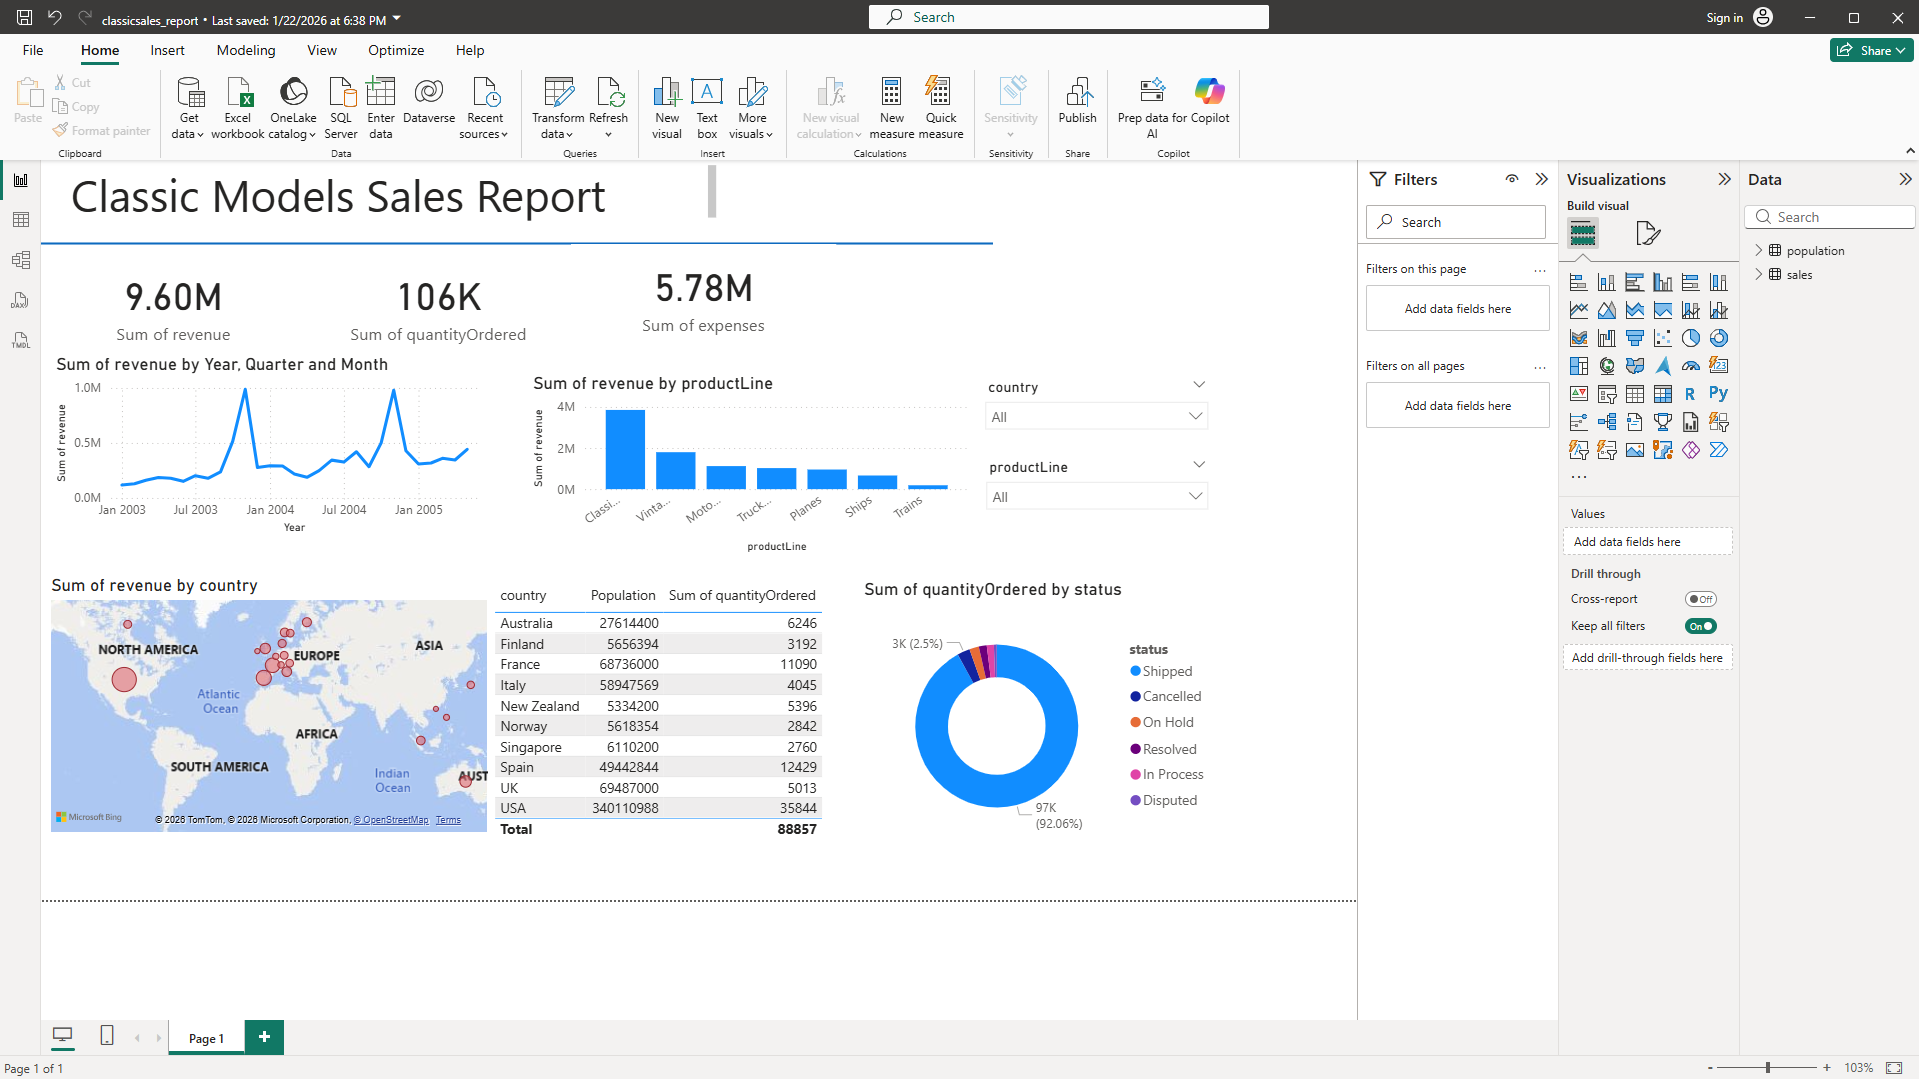

Layout of this report page (visuals, bound fields, positions):
{"tool":"powerbi","page":{"name":"Page 1","canvas":[1280,720],"ordinal":0},"visuals":[{"type":"textbox","box":[9.7,0,651.7,64.2],"z":0},{"type":"shape","box":[0,72,926,18.5],"z":1000},{"type":"card","fields":{"Values":["Sum(sales.revenue)"]},"box":[0,90.5,257.8,98.2],"z":2000},{"type":"card","fields":{"Values":["Sum(sales.quantityOrdered)"]},"box":[257.8,90.5,257.8,98.2],"z":3000},{"type":"card","fields":{"Values":["Sum(sales.expenses)"]},"box":[515.5,81.7,257.8,98.2],"z":4000},{"type":"lineChart","fields":{"Category":["sales.orderDate.Variation.Date Hierarchy.Year","sales.orderDate.Variation.Date Hierarchy.Quarter","sales.orderDate.Variation.Date Hierarchy.Month","sales.orderDate.Variation.Date Hierarchy.Day"],"Y":["Sum(sales.revenue)"]},"box":[9.7,188.7,433.8,179],"z":5000},{"type":"columnChart","fields":{"Category":["sales.productLine"],"Y":["Sum(sales.revenue)"]},"box":[473.7,207.2,433.8,179],"z":6000},{"type":"map","fields":{"Category":["sales.country"],"Size":["Sum(sales.revenue)"]},"box":[4.9,403.6,433.8,254.8],"z":7000},{"type":"tableEx","fields":{"Values":["sales.country","population.Population","Sum(sales.quantityOrdered)"]},"box":[435.7,407.5,350.2,267.5],"z":8000},{"type":"donutChart","fields":{"Y":["Sum(sales.quantityOrdered)"],"Category":["sales.status"]},"box":[796,408,350,267],"z":9000},{"type":"slicer","fields":{"Values":["sales.country"]},"box":[908.4,207.2,237.3,60.3],"z":10000},{"type":"slicer","fields":{"Values":["sales.productLine"]},"box":[909.4,285,236.4,57.4],"z":11000}]}

Visuals, with their boxes on the page's 1280x720 design canvas (x1, y1, x2, y2). These are canvas units, not pixel positions in the 1919x1079 screenshot, which may show the page scaled, cropped or inside an application window:
textbox: l=10, t=0, r=661, b=64
shape: l=0, t=72, r=926, b=90
card - Sum(sales.revenue): l=0, t=90, r=258, b=189
card - Sum(sales.quantityOrdered): l=258, t=90, r=516, b=189
card - Sum(sales.expenses): l=516, t=82, r=773, b=180
lineChart - sales.orderDate.Variation.Date Hierarchy.Year x sales.orderDate.Variation.Date Hierarchy.Quarter: l=10, t=189, r=444, b=368
columnChart - sales.productLine x Sum(sales.revenue): l=474, t=207, r=908, b=386
map - sales.country x Sum(sales.revenue): l=5, t=404, r=439, b=658
tableEx - sales.country x population.Population: l=436, t=408, r=786, b=675
donutChart - Sum(sales.quantityOrdered) x sales.status: l=796, t=408, r=1146, b=675
slicer - sales.country: l=908, t=207, r=1146, b=268
slicer - sales.productLine: l=909, t=285, r=1146, b=342
